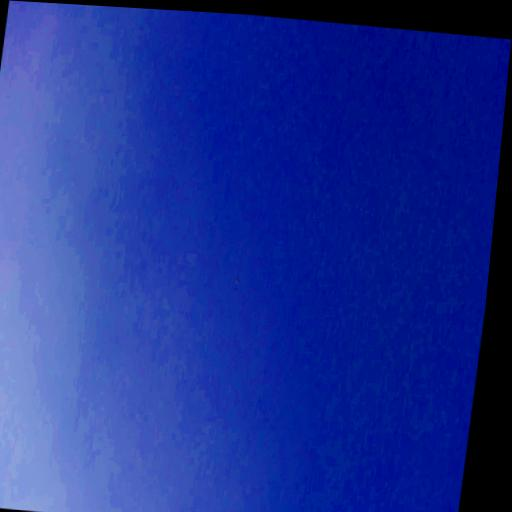drones: (233, 274, 240, 286)
